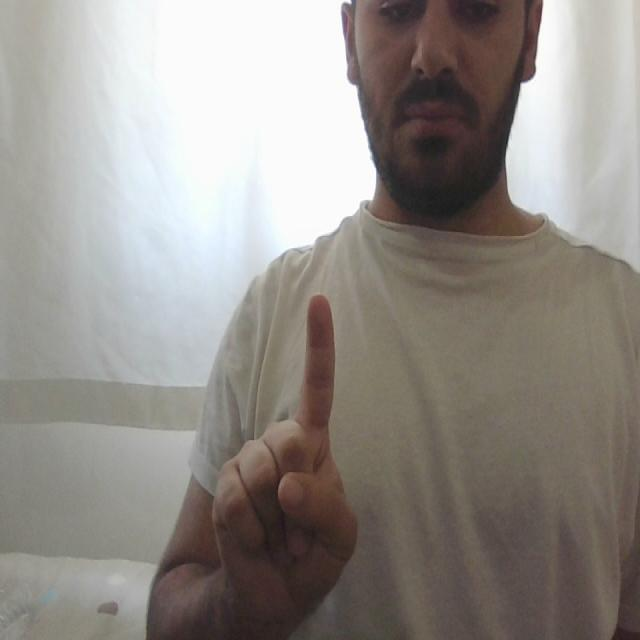Hayir: (205, 283, 375, 609)
